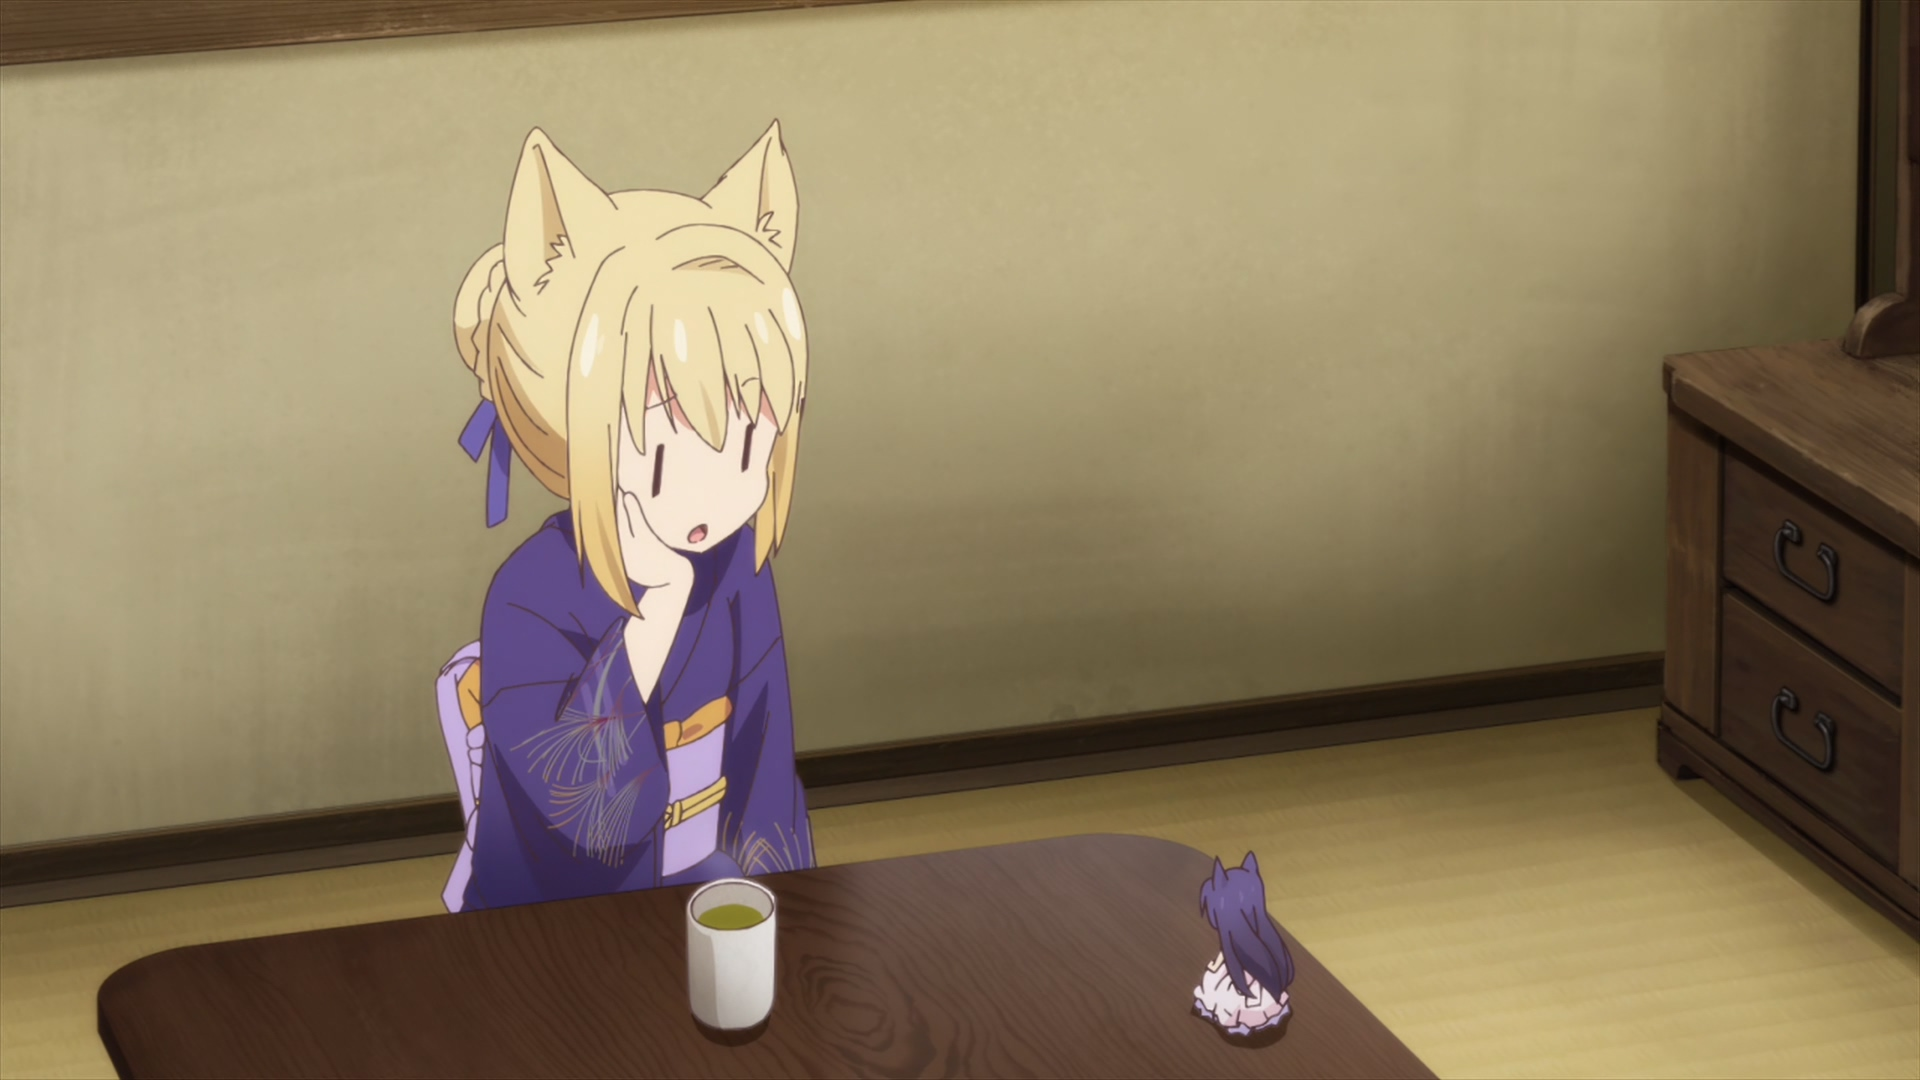桐: (434, 119, 818, 913)
皋: (1192, 853, 1294, 1044)
